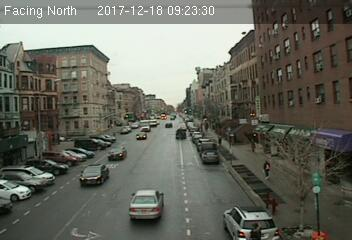car: (220, 203, 280, 240), (128, 188, 165, 221), (79, 162, 109, 187), (106, 146, 127, 162), (199, 148, 221, 163), (175, 127, 188, 138), (135, 131, 147, 141)
